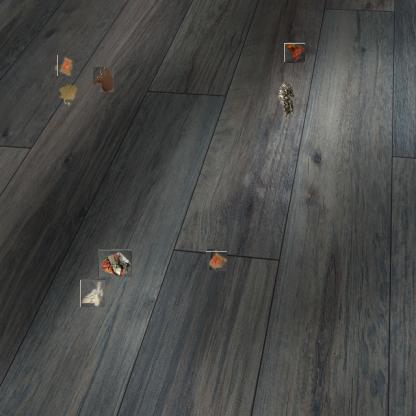dirty: (98, 250, 132, 278), (278, 81, 298, 119), (80, 279, 105, 307), (206, 250, 227, 271), (284, 42, 305, 62), (56, 56, 75, 75)
liquid: (92, 66, 114, 92), (57, 82, 79, 106)
